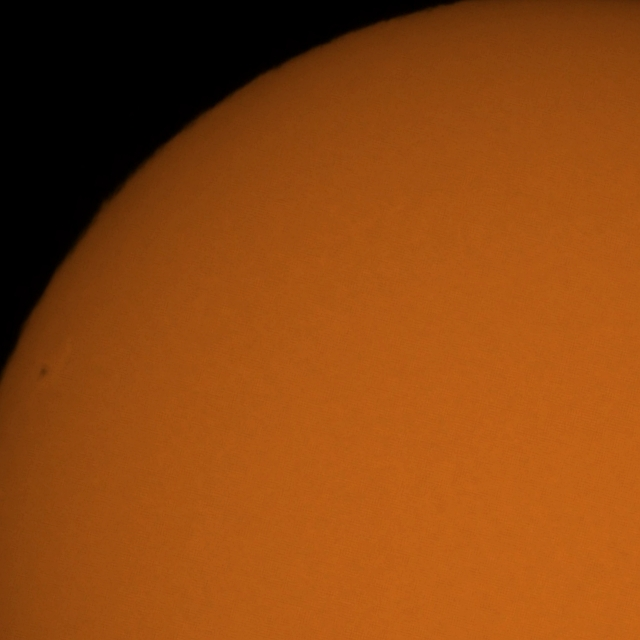sunspot: (38, 364, 50, 382)
